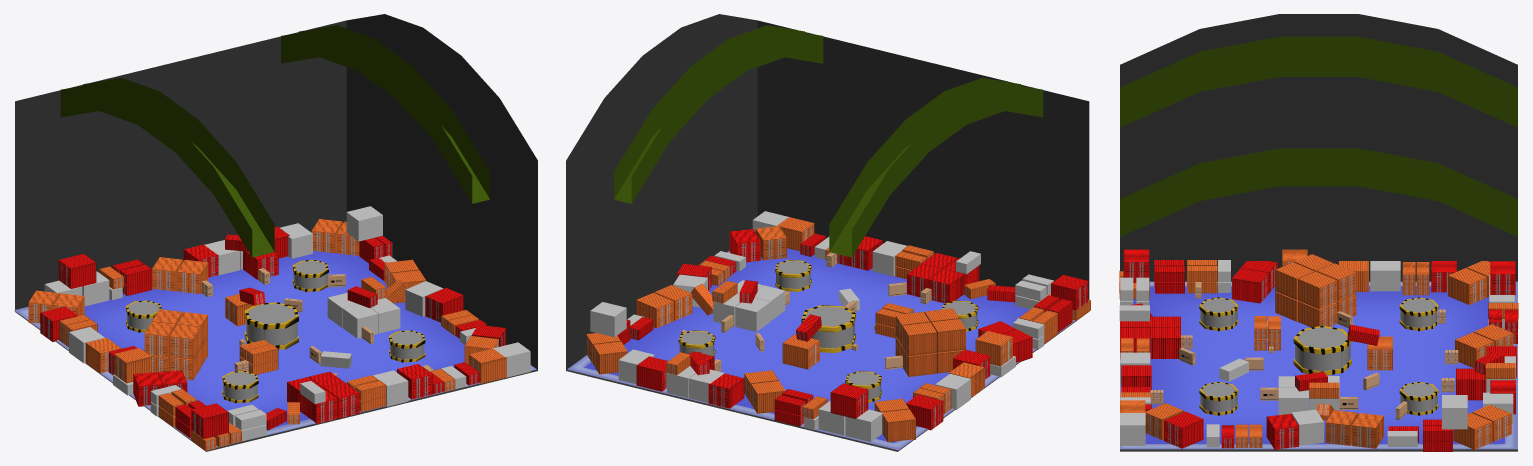
File: stage1.obj
The picture shows the model from 3 angles, left to right: view 1: azimuth 30°, elevation 25°; view 2: azimuth 150°, elevation 25°; view 3: azimuth 270°, elevation 25°; orthographic projection. The views are drawn at different scales.
Visible parts, largest first — view 1: Object016, Plane001, Object017, Box085, Box169, Box090, Object015, Box216; view 2: Object016, Plane001, Object017, Box085, Box169, Box090, Object015, Box216; view 3: Object016, Object017, Plane001, Box085, Box169, Box090, Object015, Box216.
Part boxes in pixels (<box>): Object016: <box>15,14,537,451</box>; Plane001: <box>14,251,536,447</box>; Object017: <box>60,25,490,257</box>; Box085: <box>28,219,506,450</box>; Box169: <box>40,226,506,438</box>; Box090: <box>44,206,530,441</box>; Object015: <box>126,260,425,403</box>; Box216: <box>201,268,433,376</box>; Object016: <box>566,14,1089,451</box>; Plane001: <box>567,248,1075,450</box>; Object017: <box>614,25,1043,257</box>; Box085: <box>586,217,1090,442</box>; Box169: <box>617,229,1088,430</box>; Box090: <box>590,211,1053,441</box>; Object015: <box>678,260,978,402</box>; Box216: <box>681,252,1018,371</box>; Object016: <box>1120,14,1517,451</box>; Object017: <box>1120,36,1517,236</box>; Plane001: <box>1120,281,1517,449</box>; Box085: <box>1119,249,1518,450</box>; Box169: <box>1120,249,1517,451</box>; Box090: <box>1119,260,1518,447</box>; Object015: <box>1199,297,1438,415</box>; Box216: <box>1150,282,1458,420</box>.
Bounding box in the file's own units: 70.97 × 51.67 × 69.3.
